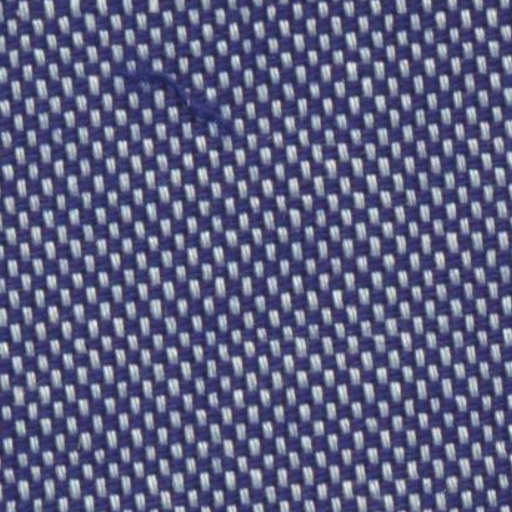DuanSha: (105, 54, 252, 144)
